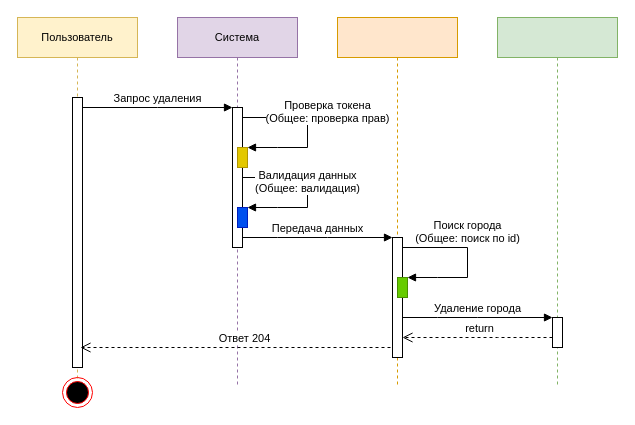
Image size: 635x425. Some labels were removed from this diagram. The shapes that lost their labels are listed below. From the top down, each one's box as (x1, y1, x2, y2) in pixels, then its label:
(336, 16, 458, 388): Контроллер городов
(496, 16, 618, 388): База данных
